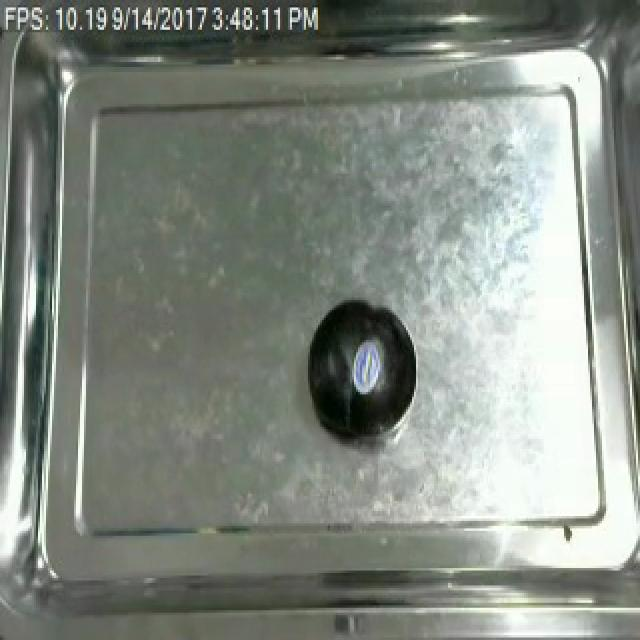Fruit: (300, 293, 420, 447)
